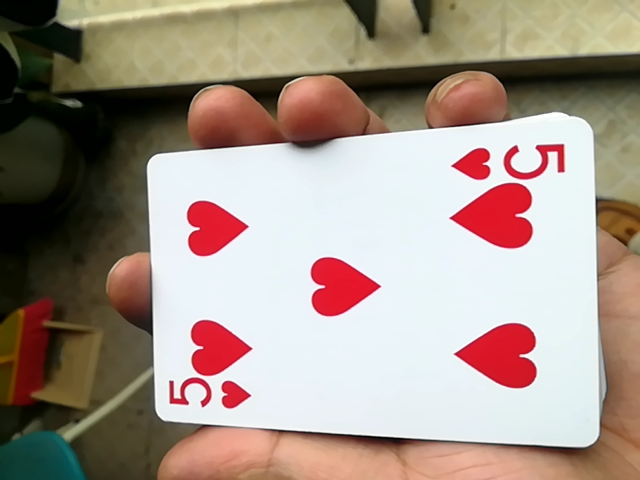hx 5: (135, 120, 595, 447)
